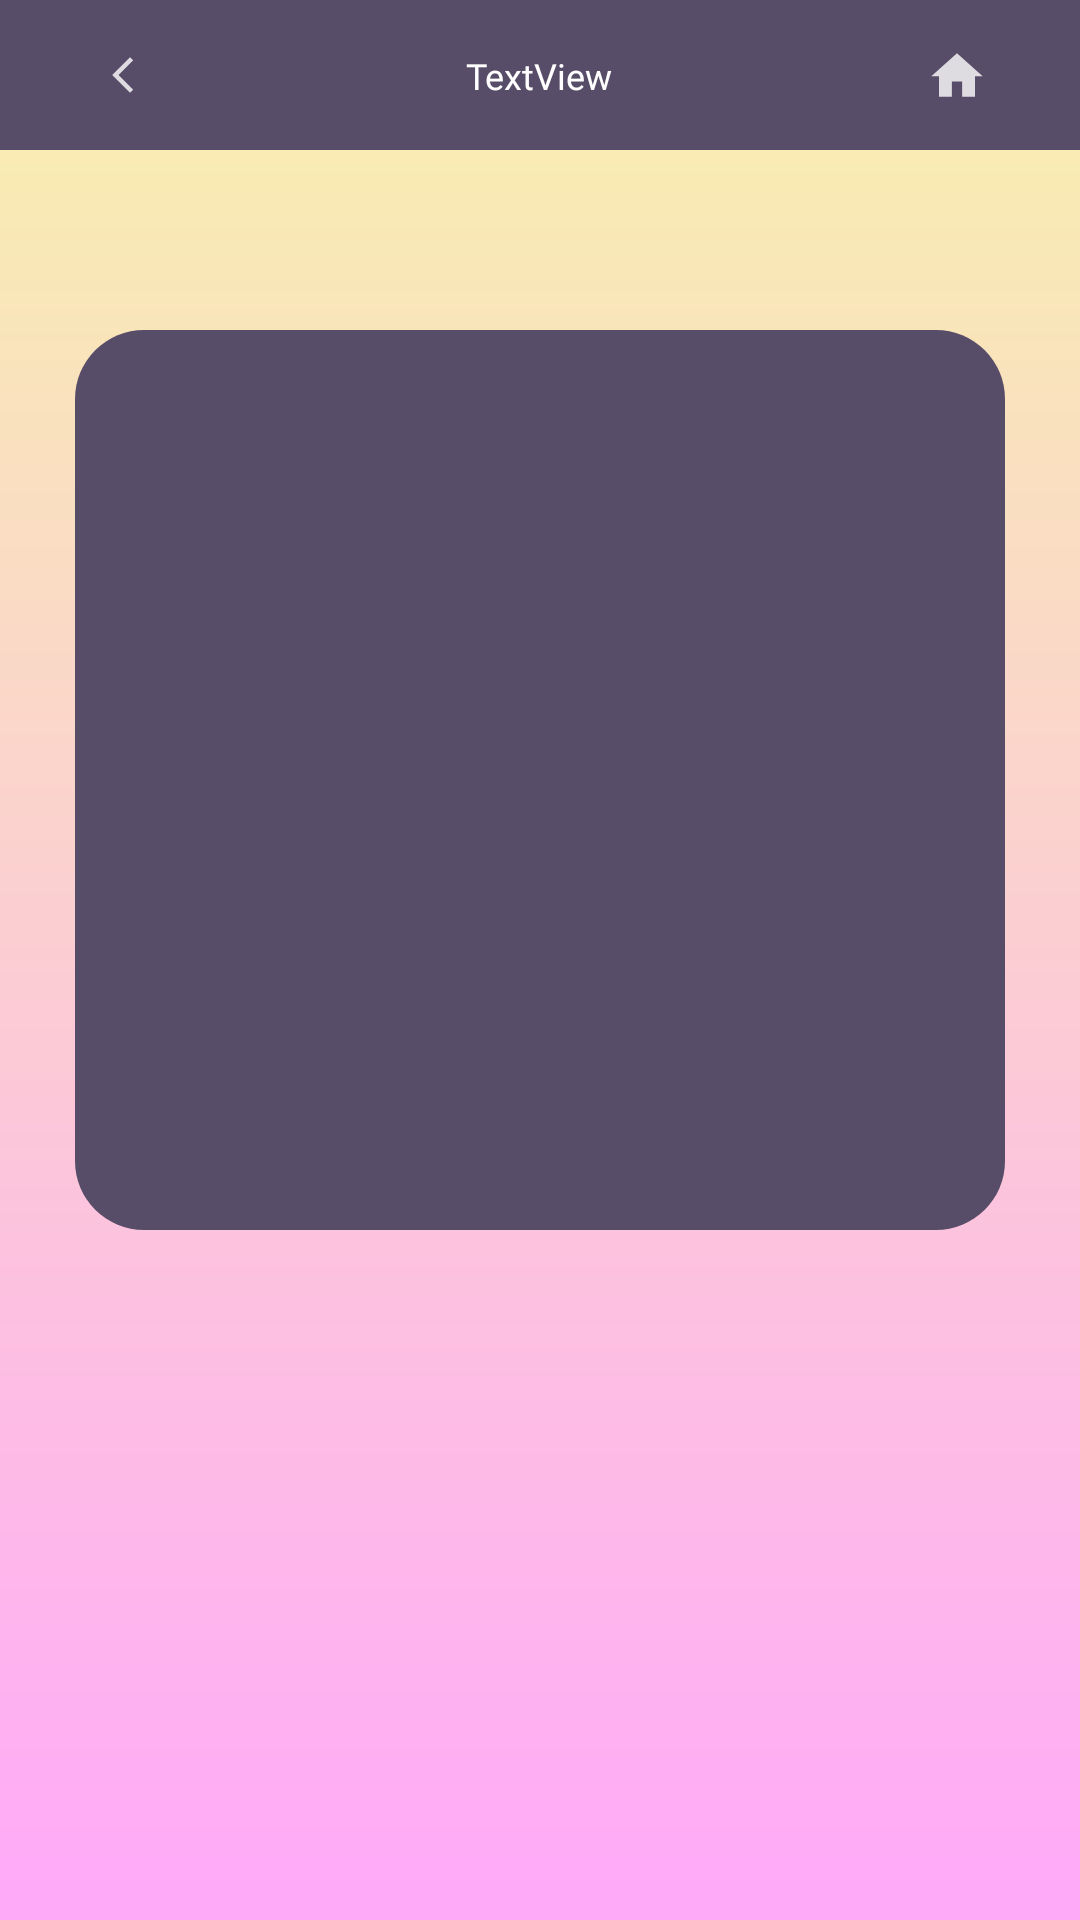

Icon click points for this 1080 x 1920 phone screenshot, format (x,y):
back arrow: (122,75)
home: (957,75)
